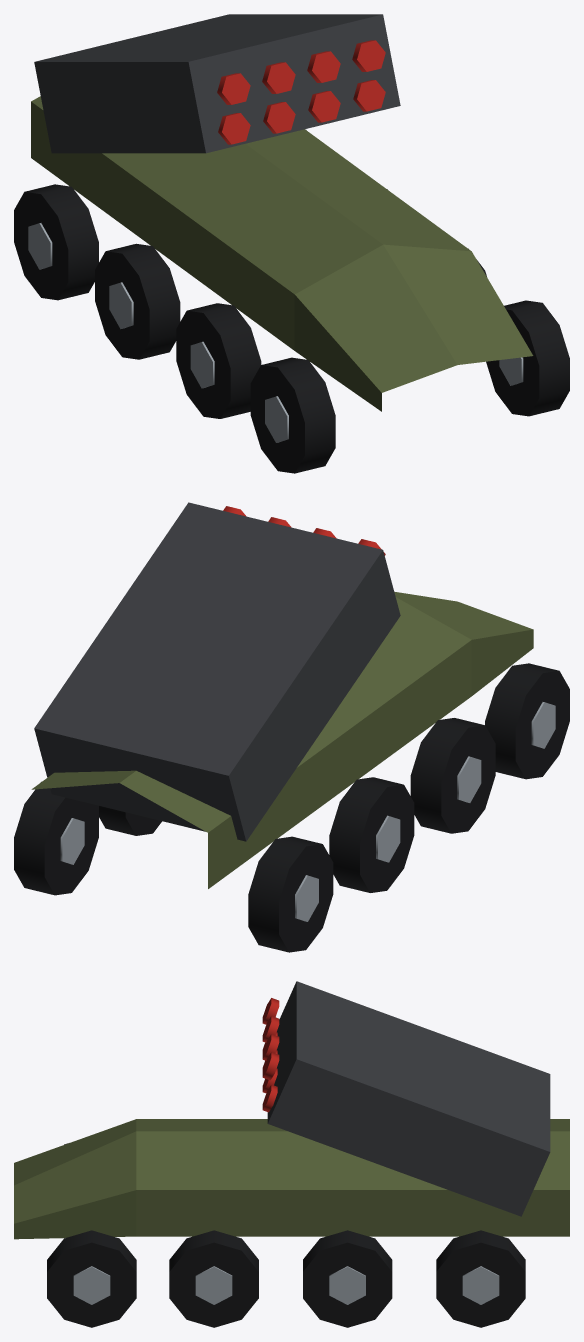
File: veh_ground_rocket_launcher_a08.glb
3 views of the same model, one above another, from view 1: azimuth 30°, elevation 25°; view 2: azimuth 150°, elevation 25°; view 3: azimuth 270°, elevation 25° (orthographic). The views are drawn at different scales.
Parts seen in each view (by area): view 1: body, launcher, wheel_6, wheel_2, wheel_0, wheel_4, wheel_7; view 2: launcher, body, wheel_0, wheel_4, wheel_2, wheel_6, wheel_1, wheel_3; view 3: body, launcher, wheel_1, wheel_3, wheel_5, wheel_7.
Part boxes in pixels (x1,y1,x2,y2): body: (31,96,533,411); launcher: (34,14,400,153); wheel_6: (250,357,335,473); wheel_2: (95,243,180,359); wheel_0: (14,184,98,300); wheel_4: (176,303,261,418); wheel_7: (486,300,569,416); launcher: (34,502,400,841); body: (31,591,533,888); wheel_0: (248,836,333,952); wheel_4: (410,718,495,833); wheel_2: (329,777,414,892); wheel_6: (485,663,569,779); wheel_1: (14,781,98,895); wheel_3: (99,806,161,835); body: (14,1119,569,1239); launcher: (262,981,550,1216); wheel_1: (436,1230,525,1327); wheel_3: (303,1230,392,1327); wheel_5: (169,1230,258,1327); wheel_7: (47,1230,136,1327).
Size of what is drawn, in the model's own units: 2.98 by 3.28 by 6.5.
